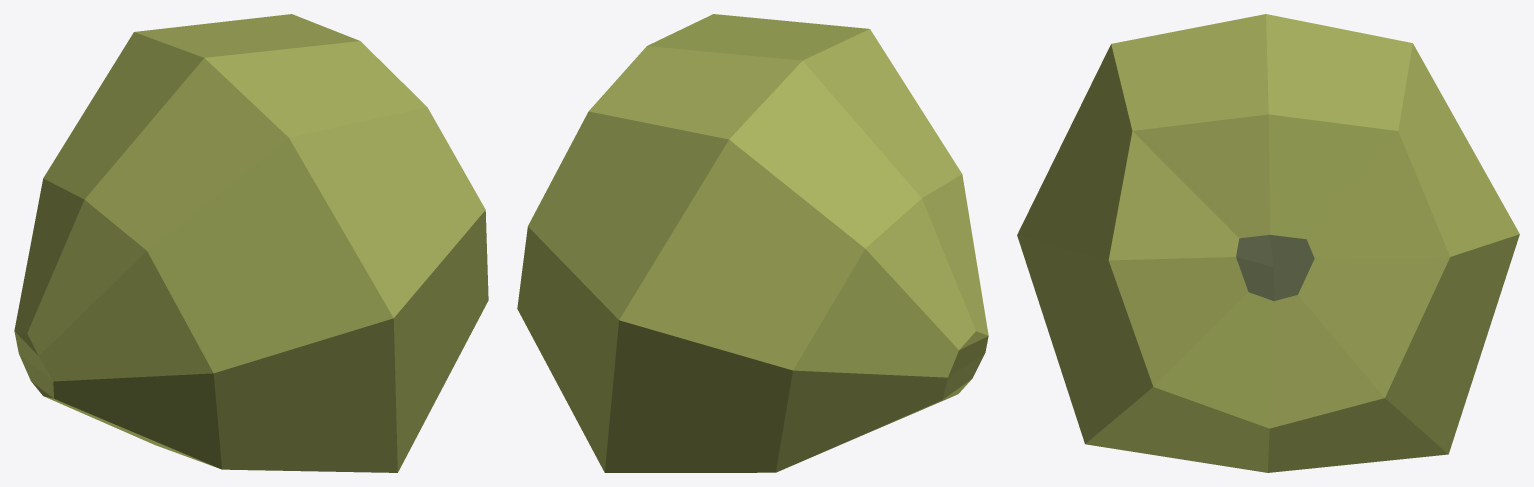
The model's file is guava.fbx.
3 views of the same model, side by side, from view 1: azimuth 30°, elevation 25°; view 2: azimuth 150°, elevation 25°; view 3: azimuth 270°, elevation 25° (orthographic). The views are drawn at different scales.
Parts seen in each view (by area): view 1: guava; view 2: guava; view 3: guava.
Part boxes in pixels (x1,y1,x2,y2): guava: (14, 14, 488, 472); guava: (517, 14, 988, 472); guava: (1017, 14, 1519, 472).
Size of the model in its own units: 6.18 by 5.65 by 6.38.
1 material, 1 textured.
